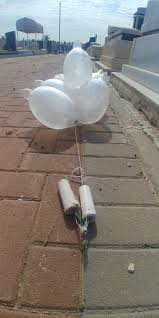Balloon: (27, 87, 75, 129), (74, 79, 111, 123), (63, 48, 92, 94)
